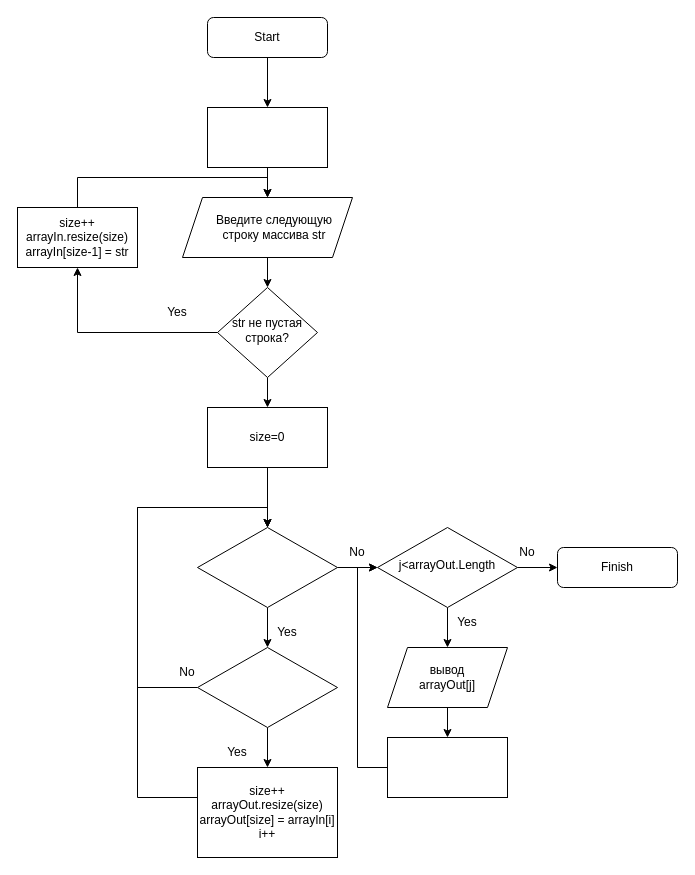
Some shapes in this 695 by 875 pixel diagram are drawn without their labels. The centre of each missing label's shape, as x and y in pixels:
"arrayIn[i].Length<4" goes at (267,687).
"i<arrayIn.Length" goes at (267,567).
"i=0; j=0; size=0; arrayIn[size]; arrayOut[size];" goes at (267,137).
"j++" goes at (447,767).
